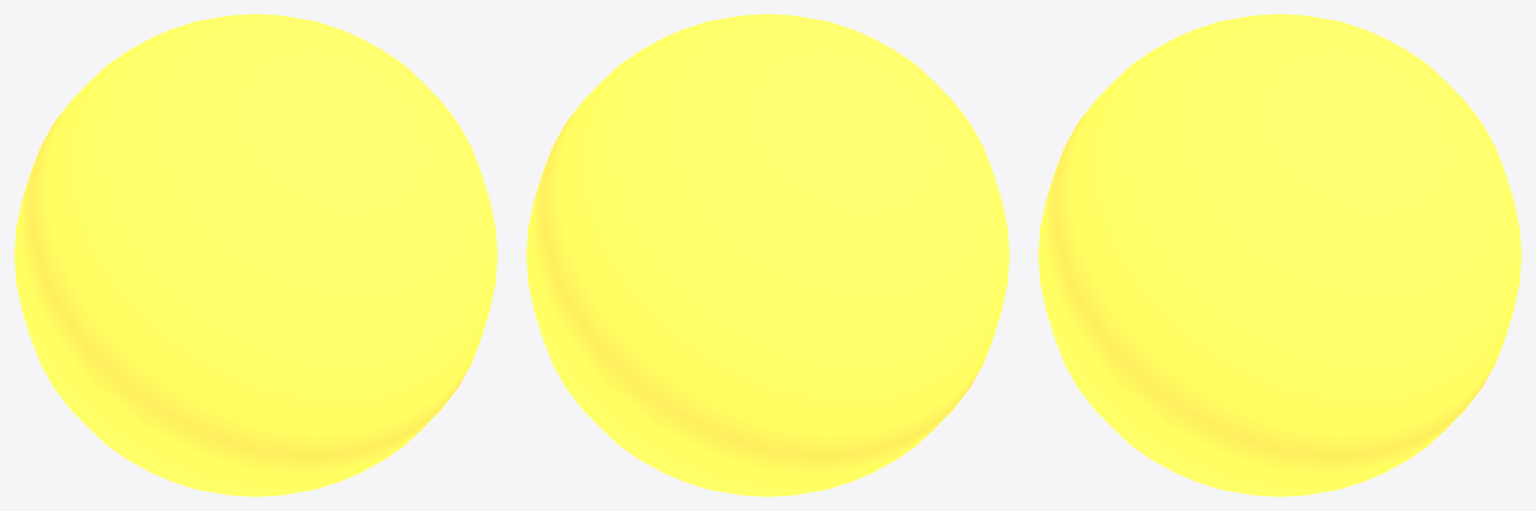
Rendered from planets.glb.
3 renders of one model, left to right at view 1: azimuth 30°, elevation 25°; view 2: azimuth 150°, elevation 25°; view 3: azimuth 270°, elevation 25°, orthographic.
Parts seen in each view (by area): view 1: Planet-Sun; view 2: Planet-Sun; view 3: Planet-Sun.
Boxes of the visible parts, x1,y1,x2,y2 form: Planet-Sun: (14,14,497,496); Planet-Sun: (526,14,1009,496); Planet-Sun: (1038,14,1521,496).
Bounding box in the file's own units: 90 × 90 × 90.
